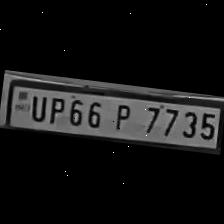3: (176, 106, 199, 139)
5: (194, 108, 218, 141)
6: (82, 96, 106, 130), (63, 94, 85, 127)
7: (134, 101, 162, 135), (156, 103, 179, 137)
P: (106, 98, 134, 132), (43, 92, 66, 125)
U: (25, 91, 48, 122)
